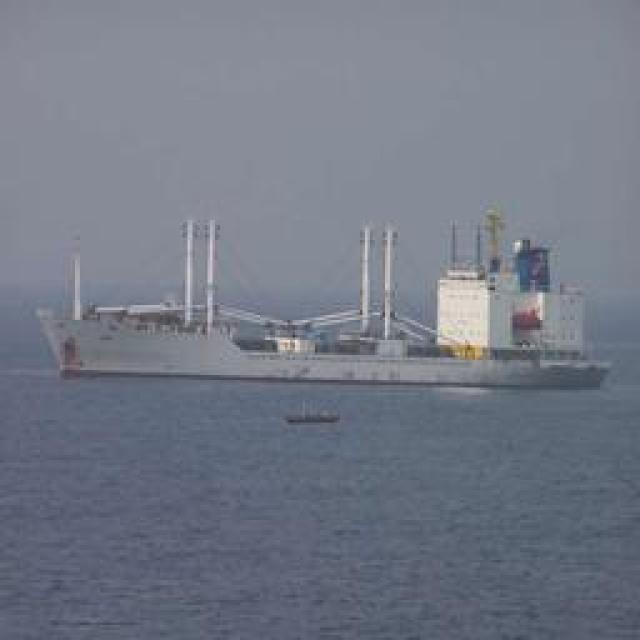CIV_Ship: (50, 231, 608, 389)
